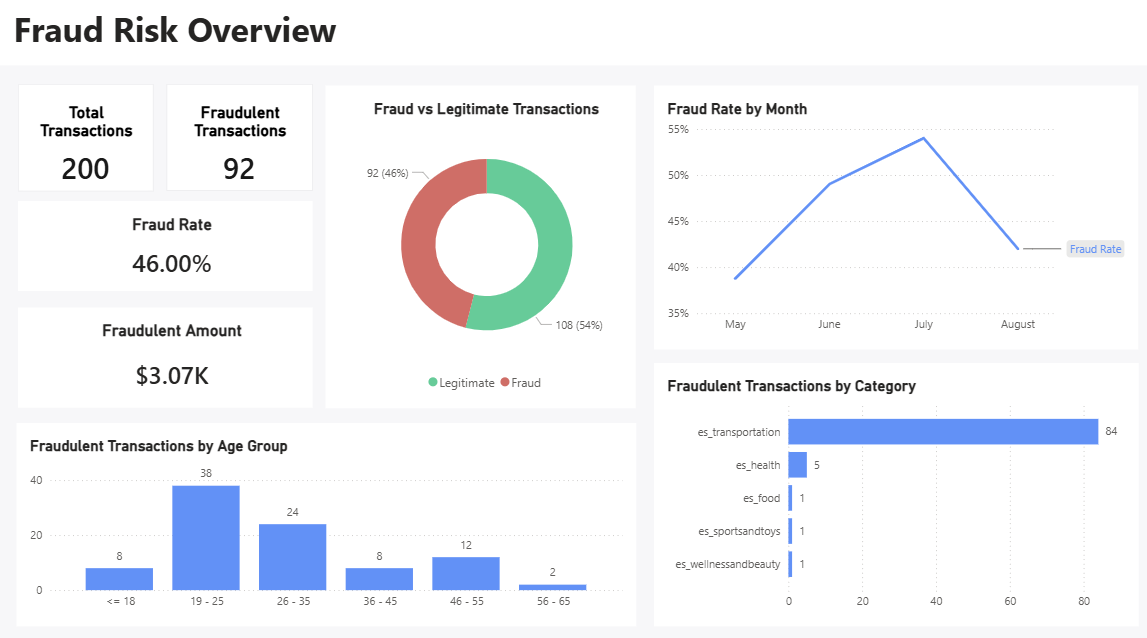

The dashboard page shown, as its layout file describes it:
{"tool":"powerbi","page":{"name":"Fraud Risk Overview","canvas":[1280,720],"ordinal":0},"visuals":[{"type":"cardVisual","title":"Total Transactions","fields":{"Data":["Transactions.Total Transactions"]},"box":[19.5,96.6,150.7,119.5],"z":0},{"type":"textbox","box":[0,0,1279.3,75.9],"z":1000},{"type":"cardVisual","title":"Fraud Rate","fields":{"Data":["Transactions.Fraud Rate"]},"box":[19.4,227.4,327.4,100],"z":2000},{"type":"cardVisual","title":"Fraudulent Amount","fields":{"Data":["Transactions.Fraudulent Amount"]},"box":[19.5,345.4,327.3,111.2],"z":3000},{"type":"cardVisual","title":"Fraudulent Transactions","fields":{"Data":["Transactions.Fraudulent Transactions"]},"box":[184.3,97.1,162.9,118.6],"z":4000},{"type":"lineChart","fields":{"Y":["Transactions.Fraud Rate"],"Category":["Transactions.Month"]},"box":[725.9,98.3,537.9,293.1],"z":5000},{"type":"barChart","title":"Fraudulent Transactions by Category","fields":{"Category":["Transactions.category"],"Y":["Transactions.Fraudulent Transactions"]},"box":[726.2,406.2,538.8,292.5],"z":6000},{"type":"donutChart","title":"Fraud vs Legitimate Transactions","fields":{"Category":["Transactions.Fraud Status"],"Y":["Transactions.Total Transactions"]},"box":[362.1,98.3,344.8,358.6],"z":7000},{"type":"clusteredColumnChart","fields":{"Y":["Transactions.Fraudulent Transactions"],"Category":["Transactions.Age Group"]},"box":[18.6,472.9,688.6,225.7],"z":8000}]}

Visuals, with their boxes in screenshot pixels (x1, y1, x2, y2), scaled from the page's 1280x720 canvas onto the 1147x638 screenshot:
"Total Transactions" cardVisual: 17/86/153/191
textbox: 0/0/1146/67
"Fraud Rate" cardVisual: 17/202/311/290
"Fraudulent Amount" cardVisual: 17/306/311/405
"Fraudulent Transactions" cardVisual: 165/86/311/191
lineChart - Transactions.Fraud Rate x Transactions.Month: 650/87/1132/347
"Fraudulent Transactions by Category" barChart: 651/360/1134/619
"Fraud vs Legitimate Transactions" donutChart: 324/87/633/405
clusteredColumnChart - Transactions.Fraudulent Transactions x Transactions.Age Group: 17/419/634/619
